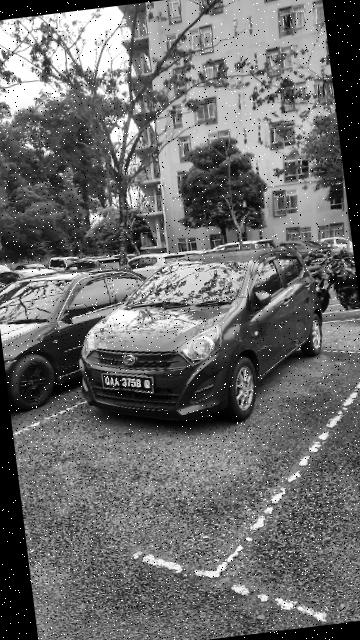License_Plate: (104, 368, 158, 403)
car: (68, 236, 340, 441), (1, 253, 175, 412)
